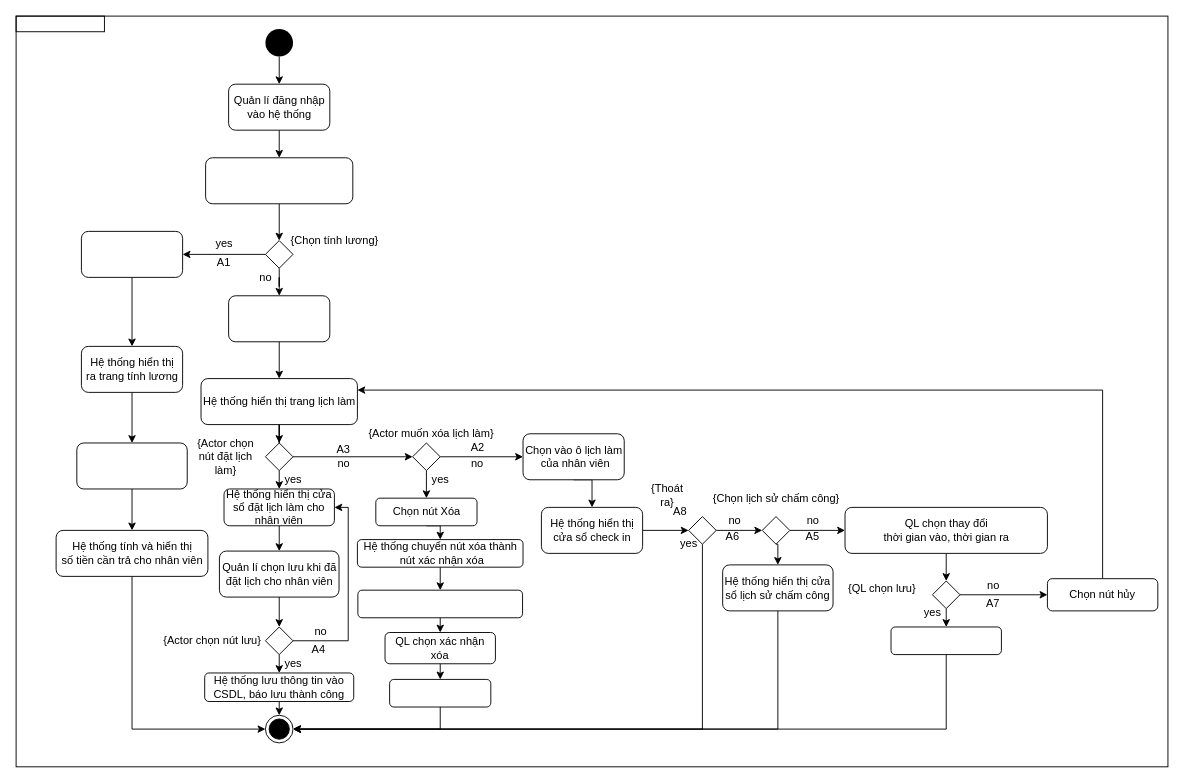
This 1184x783 diagram has some shape labels left out. Here are the shapes that lost their labels. From the top down, the box of each, then its label:
(15, 15, 104, 32): Activity Diagram
(205, 157, 353, 204): Hệ thống hiện các chức năng cho quản lí chọn
(80, 230, 183, 277): Chọn nút tính lương
(228, 295, 330, 342): Chọn nút lịch làm
(76, 442, 187, 489): Quản lí nhập tiền vào phần trả nhân viên
(357, 589, 523, 618): QL chọn các ô lịch làm cần xóa
(890, 626, 1001, 655): Hệ thống lưu vào CSDL
(389, 678, 491, 707): Hệ thống xóa các ô lịch làm
